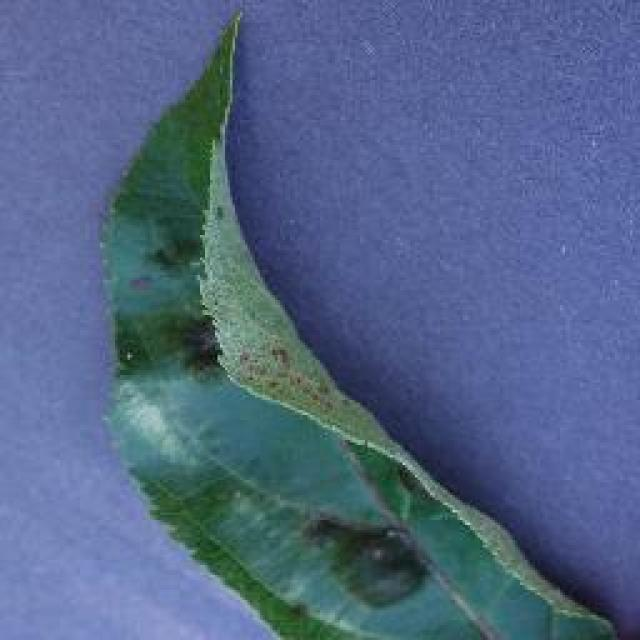apple scab disease: (95, 5, 627, 637)
